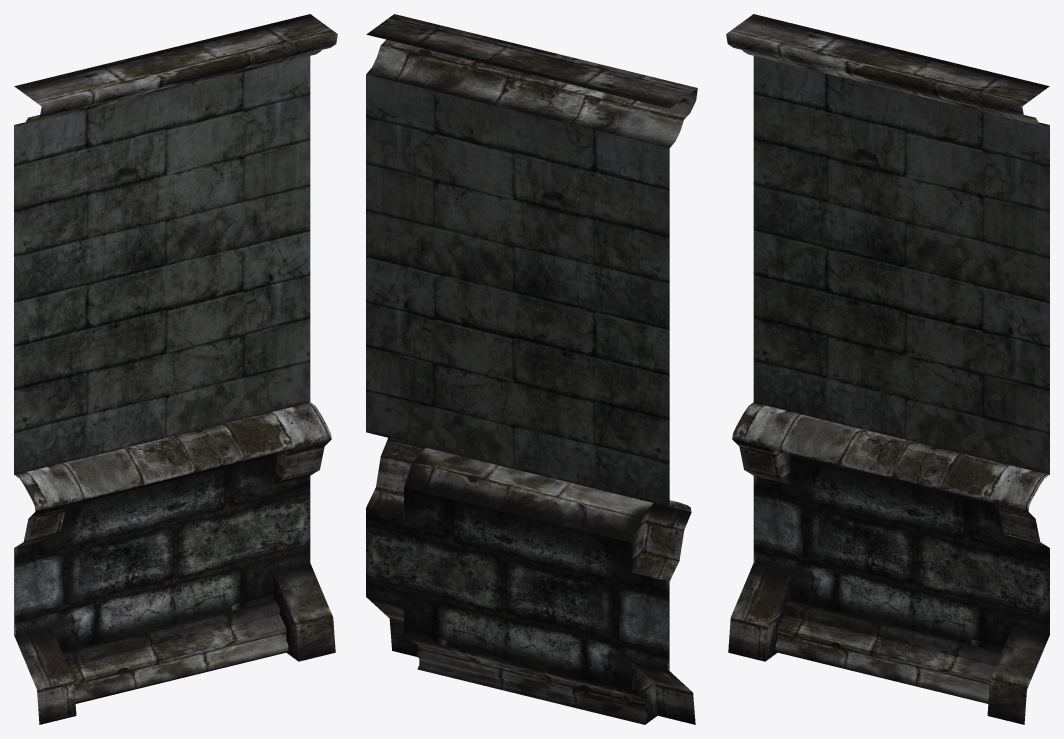
Rendered from default_short_alt.dae.
3 views of the same model, side by side, from view 1: azimuth 30°, elevation 25°; view 2: azimuth 150°, elevation 25°; view 3: azimuth 330°, elevation 25° (orthographic). The views are drawn at different scales.
Parts seen in each view (by area): view 1: polySurface111; view 2: polySurface111; view 3: polySurface111.
Boxes of the visible parts, x1=… form: polySurface111: x1=14, y1=14, x2=337, y2=724; polySurface111: x1=366, y1=14, x2=697, y2=724; polySurface111: x1=726, y1=14, x2=1049, y2=724.
Size of what is drawn, in the model's own units: 2 by 4 by 0.3219.
